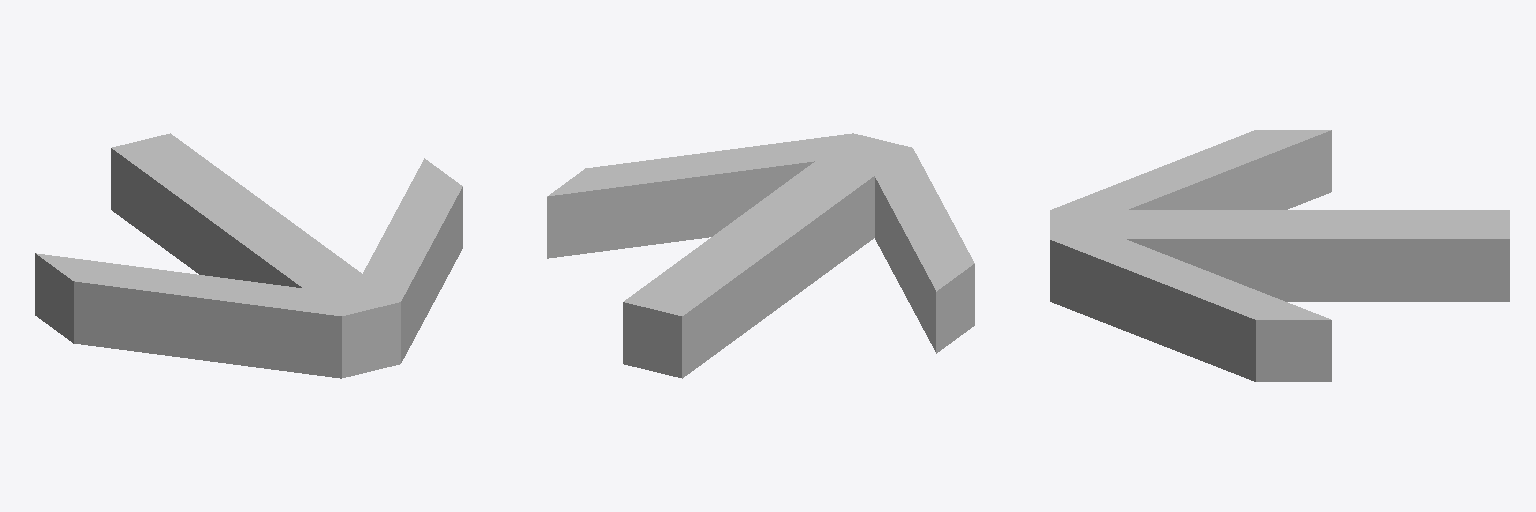
The model's file is playerBullet.obj.
3 renders of one model, left to right at view 1: azimuth 30°, elevation 25°; view 2: azimuth 150°, elevation 25°; view 3: azimuth 270°, elevation 25°, orthographic.
Parts seen in each view (by area): view 1: Cube; view 2: Cube; view 3: Cube.
Part boxes in pixels (x1,y1,x2,y2): Cube: (35,133,462,378); Cube: (547,133,974,378); Cube: (1050,130,1509,381).
Bounding box in the file's own units: 1.95 × 0.2978 × 2.